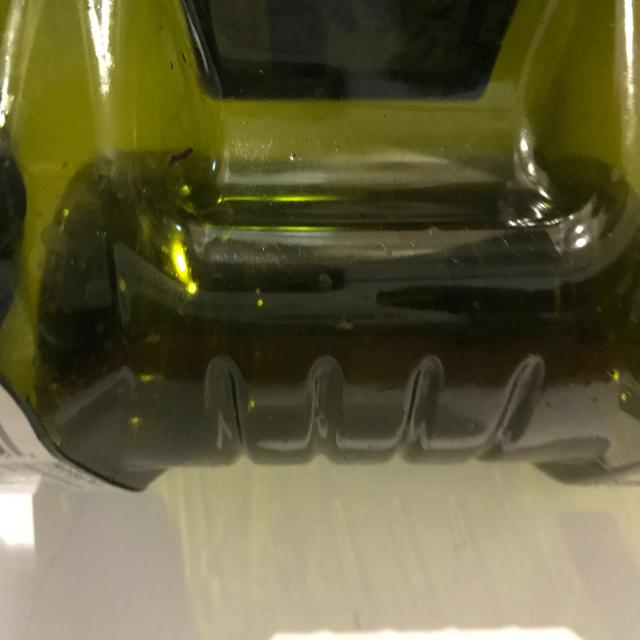plastic: (1, 0, 638, 492)
